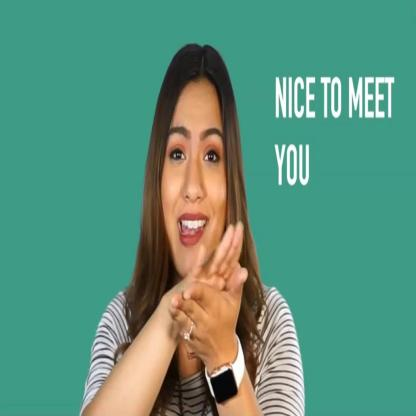NiceToMeetYou: (171, 216, 256, 380)
